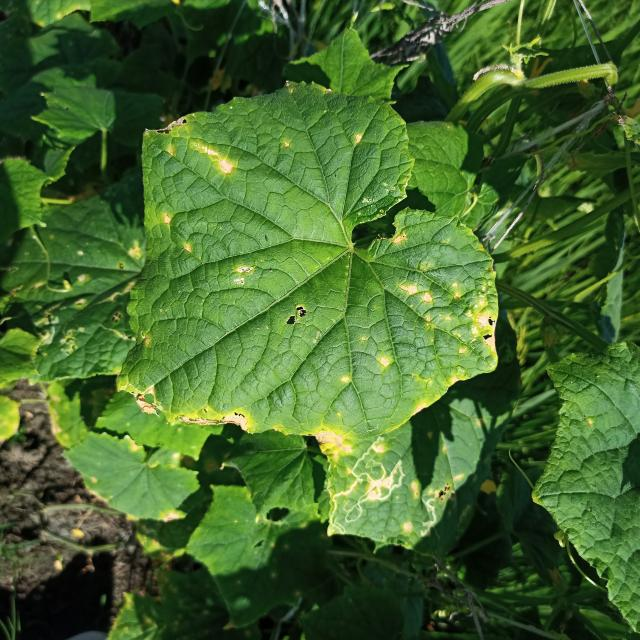disease_cucumber: (399, 274, 501, 354), (176, 402, 253, 437), (189, 140, 241, 182), (231, 264, 253, 288), (377, 354, 392, 369), (181, 242, 194, 257), (160, 215, 173, 227), (342, 374, 352, 388), (354, 132, 364, 146)
